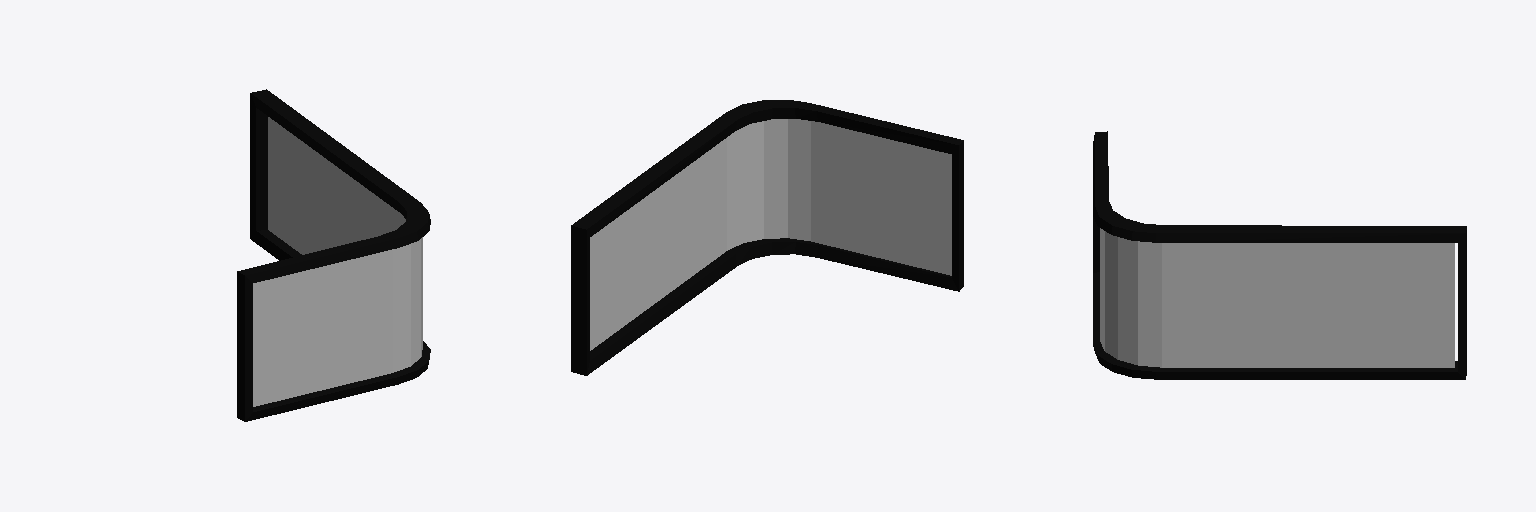
The model's file is Sign_Corner_3.obj.
3 renders of one model, left to right at view 1: azimuth 30°, elevation 25°; view 2: azimuth 150°, elevation 25°; view 3: azimuth 270°, elevation 25°, orthographic.
Visible parts, largest first — view 1: Sign_Corner_3_Plane.004; view 2: Sign_Corner_3_Plane.004; view 3: Sign_Corner_3_Plane.004.
Part boxes in pixels (left/top/right/bottom): Sign_Corner_3_Plane.004: left=237, top=89, right=430, bottom=421; Sign_Corner_3_Plane.004: left=571, top=100, right=963, bottom=375; Sign_Corner_3_Plane.004: left=1093, top=131, right=1466, bottom=379.
Bounding box in the file's own units: 1.09 × 0.7269 × 1.68.